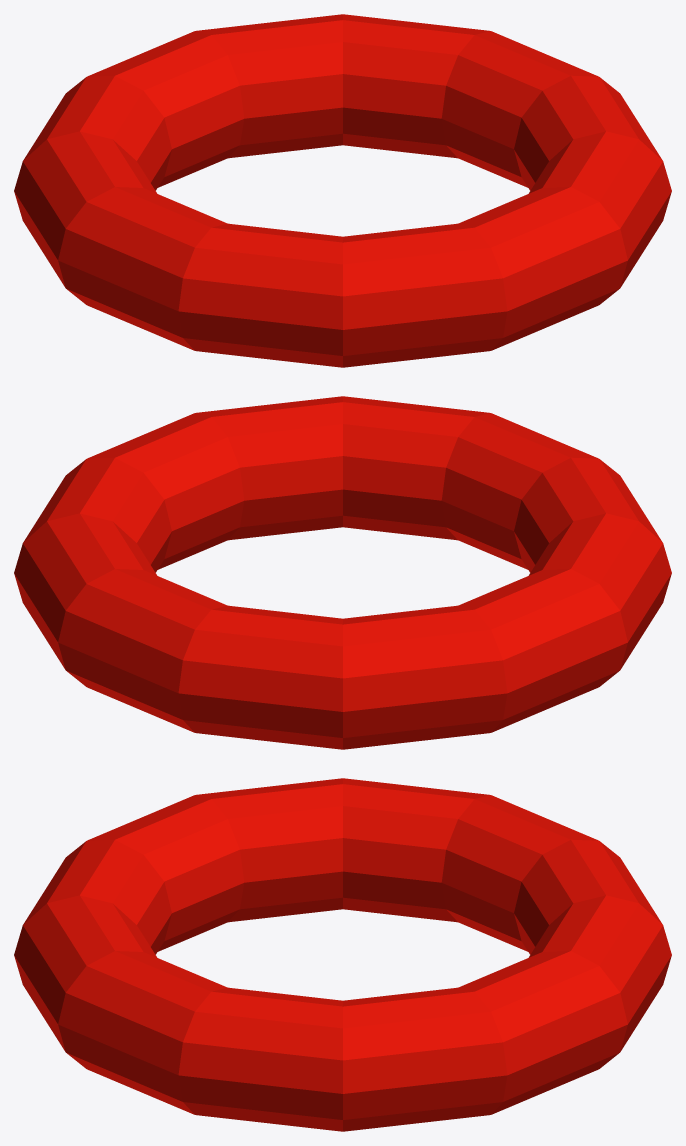
The picture shows the model from 3 angles, top to bottom: view 1: azimuth 30°, elevation 25°; view 2: azimuth 150°, elevation 25°; view 3: azimuth 270°, elevation 25°; orthographic projection.
Visible parts, largest first — view 1: Torus; view 2: Torus; view 3: Torus.
Part boxes in pixels (<box>): Torus: <box>14,14,671,367</box>; Torus: <box>14,396,671,749</box>; Torus: <box>14,778,671,1131</box>.
Bounding box in the file's own units: 2.5 × 0.5 × 2.5.
